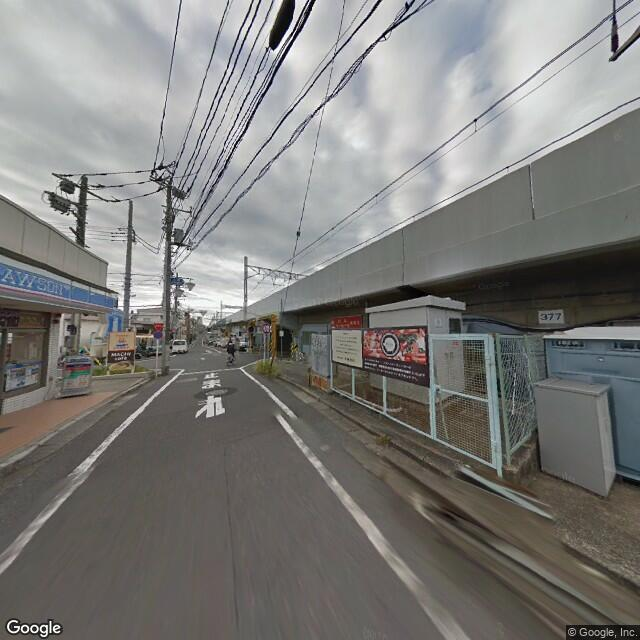lawson: (1, 255, 123, 313), (104, 311, 128, 340)
